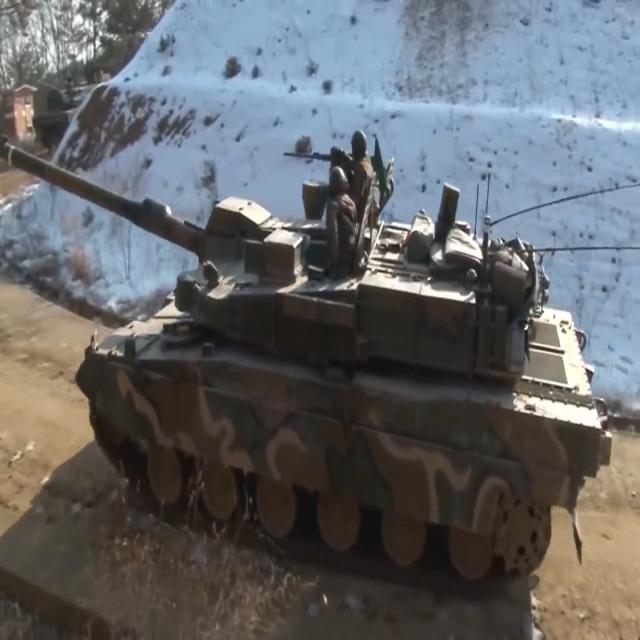korea tank: (1, 122, 616, 589)
